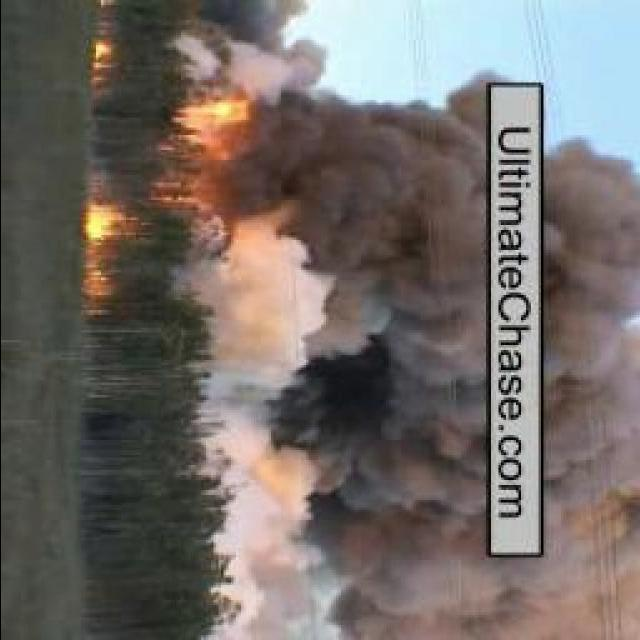Fire: (79, 200, 136, 300), (172, 103, 264, 144), (95, 38, 116, 86)
